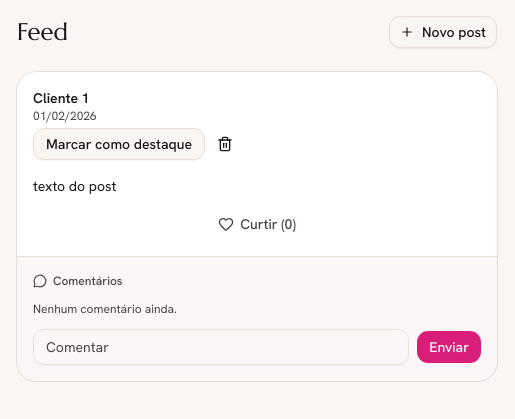
Test: FeedPage › mostra a mensagem de erro original quando alternar destaque falha
The width and height of the screenshot is (515, 419).
Click the button "Marcar como destaque" at (119, 144), box [33,128,205,160]
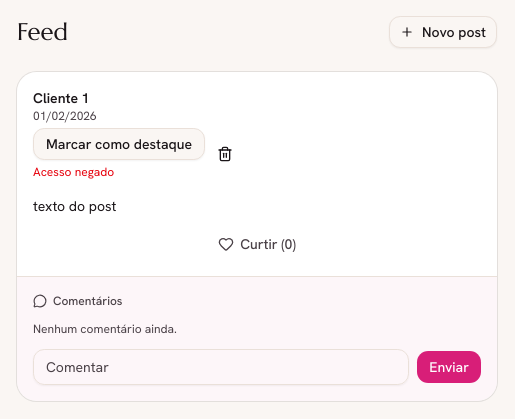
Result: the message reads "Acesso negado" at [33,164,114,180]
